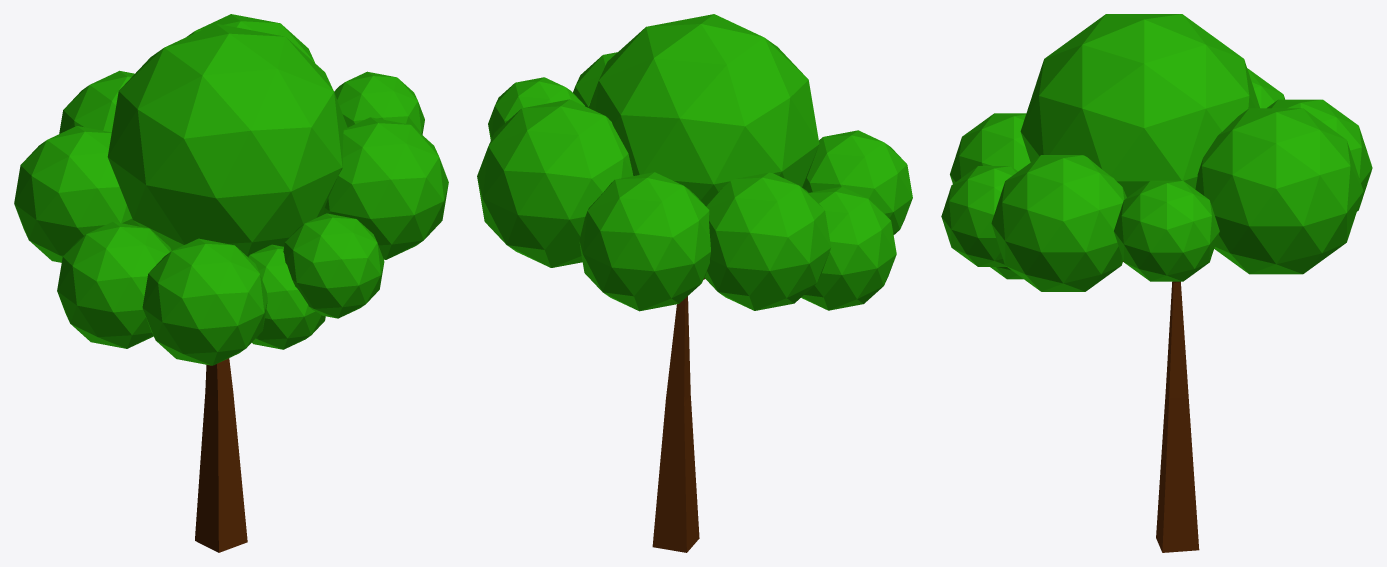
The model's file is IceCreamTree.fbx.
3 renders of one model, left to right at view 1: azimuth 30°, elevation 25°; view 2: azimuth 150°, elevation 25°; view 3: azimuth 270°, elevation 25°, orthographic. The views are drawn at different scales.
Parts seen in each view (by area): view 1: Icosphere.018, Icosphere.011, Icosphere.013, Icosphere.017, Icosphere.009, Icosphere.012, Cube.001, Icosphere.010, Icosphere.015, Icosphere.016, Icosphere.014; view 2: Icosphere.018, Icosphere.014, Icosphere.016, Icosphere.017, Icosphere.009, Cube.001, Icosphere.011, Icosphere.015, Icosphere.013; view 3: Icosphere.018, Icosphere.014, Icosphere.013, Icosphere.015, Cube.001, Icosphere.012, Icosphere.011, Icosphere.016, Icosphere.017.
Boxes of the visible parts, box(x1,y1,x2,y2) form: Icosphere.018: box(107, 23, 347, 256); Icosphere.011: box(142, 238, 267, 365); Icosphere.013: box(323, 117, 448, 259); Icosphere.017: box(14, 126, 139, 262); Icosphere.009: box(57, 221, 171, 348); Icosphere.012: box(283, 213, 384, 318); Cube.001: box(195, 358, 247, 552); Icosphere.010: box(247, 244, 325, 349); Icosphere.015: box(334, 71, 424, 134); Icosphere.016: box(59, 70, 134, 133); Icosphere.014: box(187, 14, 314, 62); Icosphere.018: box(588, 14, 819, 204); Icosphere.014: box(477, 99, 633, 267); Icosphere.016: box(579, 172, 710, 311); Icosphere.017: box(704, 172, 831, 310); Icosphere.009: box(801, 186, 896, 310); Cube.001: box(652, 278, 704, 552); Icosphere.011: box(803, 130, 912, 234); Icosphere.015: box(488, 77, 584, 140); Icosphere.013: box(573, 52, 617, 107); Icosphere.018: box(1020, 14, 1259, 197); Icosphere.014: box(1195, 108, 1363, 274); Icosphere.013: box(991, 155, 1126, 291); Icosphere.015: box(1114, 180, 1219, 281); Cube.001: box(1123, 261, 1199, 552); Icosphere.012: box(941, 166, 1017, 266); Icosphere.011: box(950, 113, 1030, 183); Icosphere.016: box(1267, 99, 1372, 211); Icosphere.017: box(1247, 68, 1284, 108).
Bounding box in the file's own units: 1668 × 2218 × 1666.
